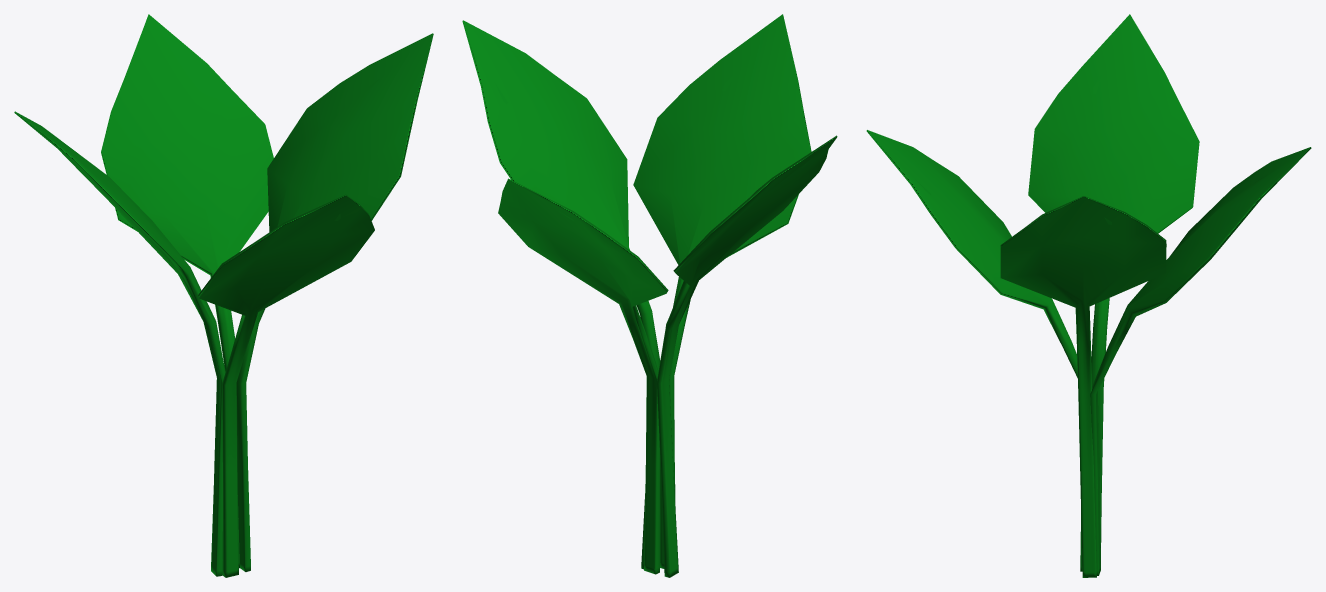
Rendered from poisoned_apple1.fbx.
3 renders of one model, left to right at view 1: azimuth 30°, elevation 25°; view 2: azimuth 150°, elevation 25°; view 3: azimuth 270°, elevation 25°, orthographic. The views are drawn at different scales.
Visible parts, largest first — view 1: poisoned_apple1; view 2: poisoned_apple1; view 3: poisoned_apple1.
Boxes of the visible parts, x1,y1,x2,y2 form: poisoned_apple1: (14, 14, 433, 577); poisoned_apple1: (462, 14, 837, 577); poisoned_apple1: (866, 14, 1311, 577).
Bounding box in the file's own units: 0.2613 × 0.3116 × 0.2694.
1 material, 1 textured.
